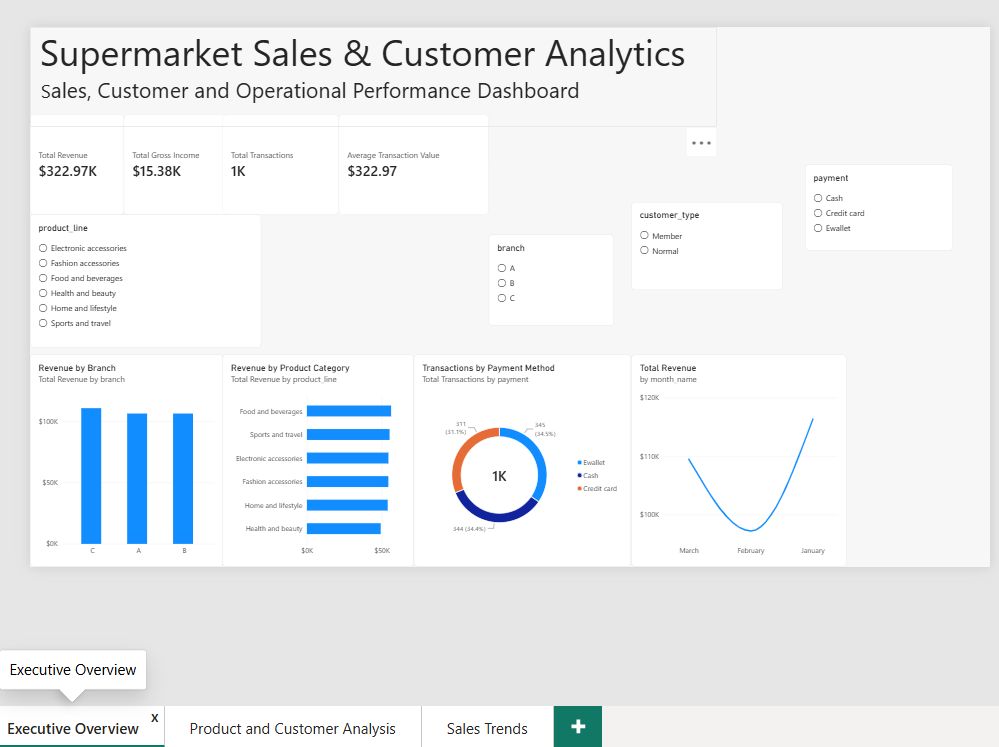

The dashboard page shown, as its layout file describes it:
{"tool":"powerbi","page":{"name":"Executive Overview","canvas":[1920,1080],"ordinal":0},"visuals":[{"type":"cardVisual","fields":{"Data":["sales.Total Revenue"]},"box":[0,174,188,200],"z":0},{"type":"cardVisual","fields":{"Data":["sales.Total Gross Income"]},"box":[188,174,214,200],"z":1000},{"type":"cardVisual","fields":{"Data":["sales.Total Transactions"]},"box":[386,174,232,200],"z":2000},{"type":"cardVisual","fields":{"Data":["sales.Average Transaction Value"]},"box":[618,174,300,200],"z":3000},{"type":"clusteredColumnChart","title":"Revenue by Branch","fields":{"Category":["sales.branch"],"Y":["sales.Total Revenue"]},"box":[0,656,386,424],"z":4000},{"type":"clusteredBarChart","title":"Revenue by Product Category","fields":{"Category":["sales.product_line"],"Y":["sales.Total Revenue"]},"box":[386,656,382,424],"z":4001},{"type":"lineChart","fields":{"Category":["sales.month_name"],"Y":["sales.Total Revenue"]},"box":[1202,656,430,424],"z":4002},{"type":"donutChart","title":"Transactions by Payment Method","fields":{"Category":["sales.payment"],"Y":["sales.Total Transactions"]},"box":[768,656,434,424],"z":4003},{"type":"listSlicer","fields":{"Values":["sales.branch"]},"box":[917.4,415.1,250,182.5],"z":4004},{"type":"listSlicer","fields":{"Values":["sales.product_line"]},"box":[0,374,462,266],"z":4005},{"type":"listSlicer","fields":{"Values":["sales.customer_type"]},"box":[1201.7,348.8,302,176],"z":4006},{"type":"listSlicer","fields":{"Values":["sales.payment"]},"box":[1548.8,273.8,296,172],"z":4007},{"type":"textbox","box":[0,0,1375,200],"z":4008}]}

Visuals, with their boxes on the page's 1920x1080 design canvas (x1, y1, x2, y2). These are canvas units, not pixel positions in the 999x747 screenshot, which may show the page scaled, cropped or inside an application window:
cardVisual - sales.Total Revenue: bbox(0, 174, 188, 374)
cardVisual - sales.Total Gross Income: bbox(188, 174, 402, 374)
cardVisual - sales.Total Transactions: bbox(386, 174, 618, 374)
cardVisual - sales.Average Transaction Value: bbox(618, 174, 918, 374)
"Revenue by Branch" clusteredColumnChart: bbox(0, 656, 386, 1080)
"Revenue by Product Category" clusteredBarChart: bbox(386, 656, 768, 1080)
lineChart - sales.month_name x sales.Total Revenue: bbox(1202, 656, 1632, 1080)
"Transactions by Payment Method" donutChart: bbox(768, 656, 1202, 1080)
listSlicer - sales.branch: bbox(917, 415, 1167, 598)
listSlicer - sales.product_line: bbox(0, 374, 462, 640)
listSlicer - sales.customer_type: bbox(1202, 349, 1504, 525)
listSlicer - sales.payment: bbox(1549, 274, 1845, 446)
textbox: bbox(0, 0, 1375, 200)
